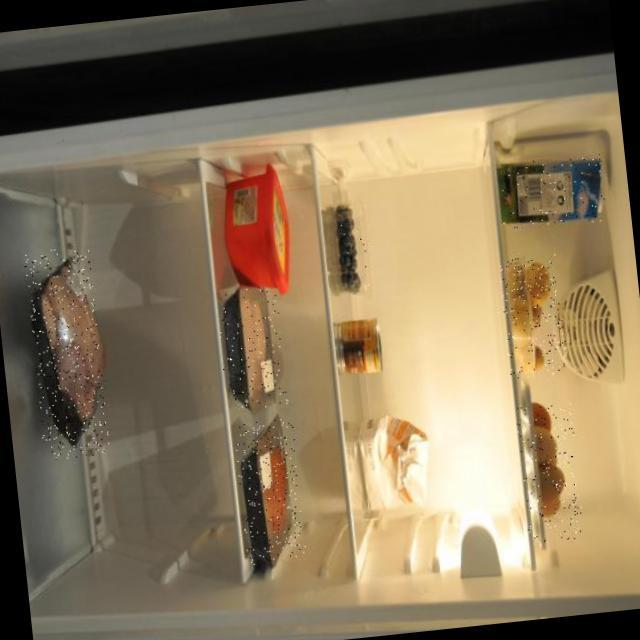Carne pollo: (22, 246, 109, 461)
Huevos: (514, 402, 584, 543)
Patata: (498, 254, 568, 379)
meat: (231, 418, 306, 565), (214, 284, 288, 411)
milk: (496, 153, 606, 231)
olive: (334, 210, 369, 290)
